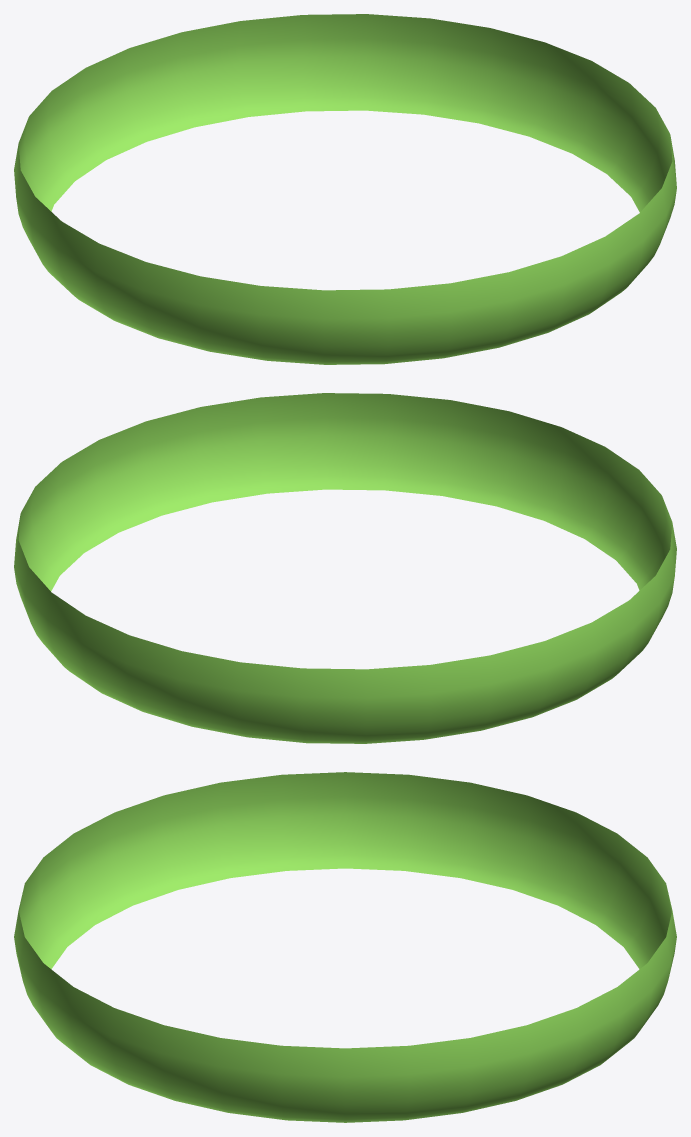
The model's file is Ground_Collider_02.fbx.
3 views of the same model, one above another, from view 1: azimuth 30°, elevation 25°; view 2: azimuth 150°, elevation 25°; view 3: azimuth 270°, elevation 25° (orthographic).
Visible parts, largest first — view 1: Cylinder; view 2: Cylinder; view 3: Cylinder.
Boxes of the visible parts, x1=… form: Cylinder: x1=14, y1=14, x2=676, y2=364; Cylinder: x1=14, y1=393, x2=676, y2=743; Cylinder: x1=14, y1=772, x2=676, y2=1122.
Bounding box in the file's own units: 231 × 32.81 × 231.
